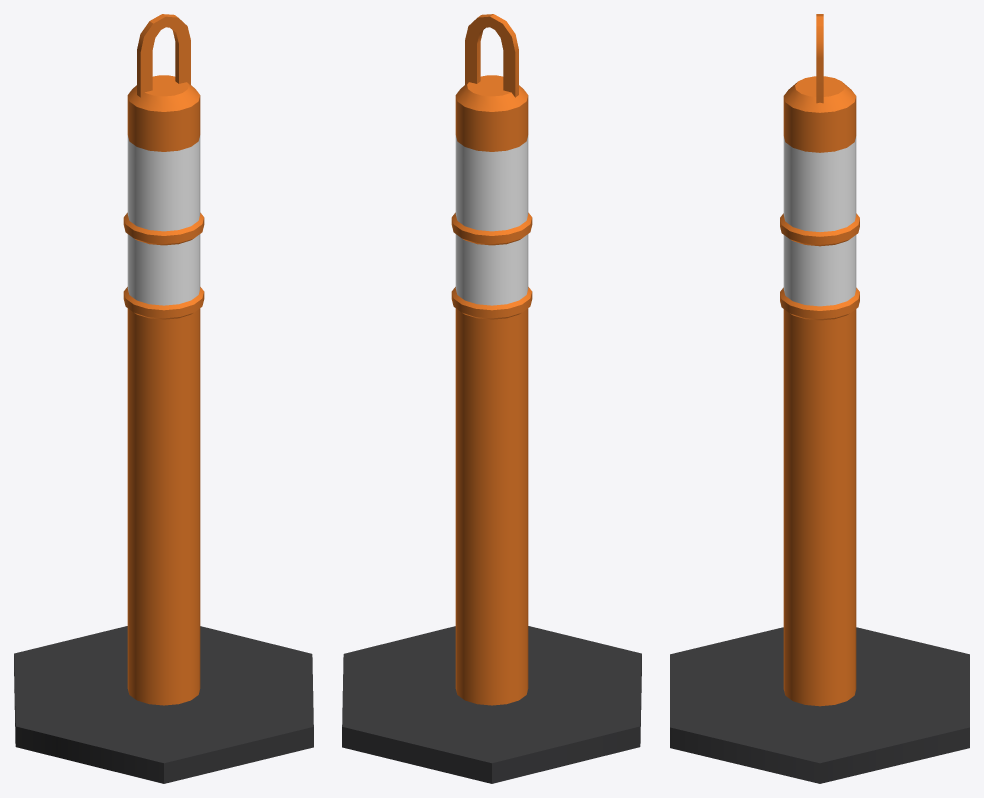
Rendered from Traffic Cone 2.fbx.
3 renders of one model, left to right at view 1: azimuth 30°, elevation 25°; view 2: azimuth 150°, elevation 25°; view 3: azimuth 270°, elevation 25°, orthographic.
Visible parts, largest first — view 1: Traffic_Cone1; view 2: Traffic_Cone1; view 3: Traffic_Cone1.
Part boxes in pixels (x1=…): Traffic_Cone1: x1=14, y1=14, x2=313, y2=783; Traffic_Cone1: x1=342, y1=14, x2=641, y2=783; Traffic_Cone1: x1=670, y1=14, x2=969, y2=783.
Bounding box in the file's own units: 66.14 × 148 × 57.86.
